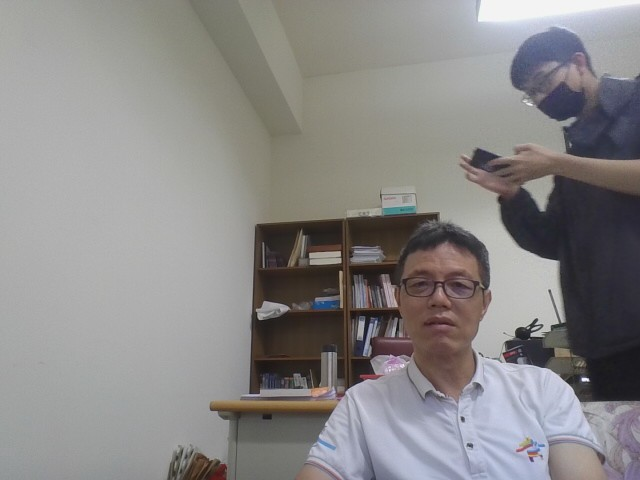No_Gloves: (455, 141, 562, 201)
No_Helmet: (390, 218, 494, 367), (509, 24, 600, 121)
person: (253, 191, 637, 480), (451, 0, 640, 480)
